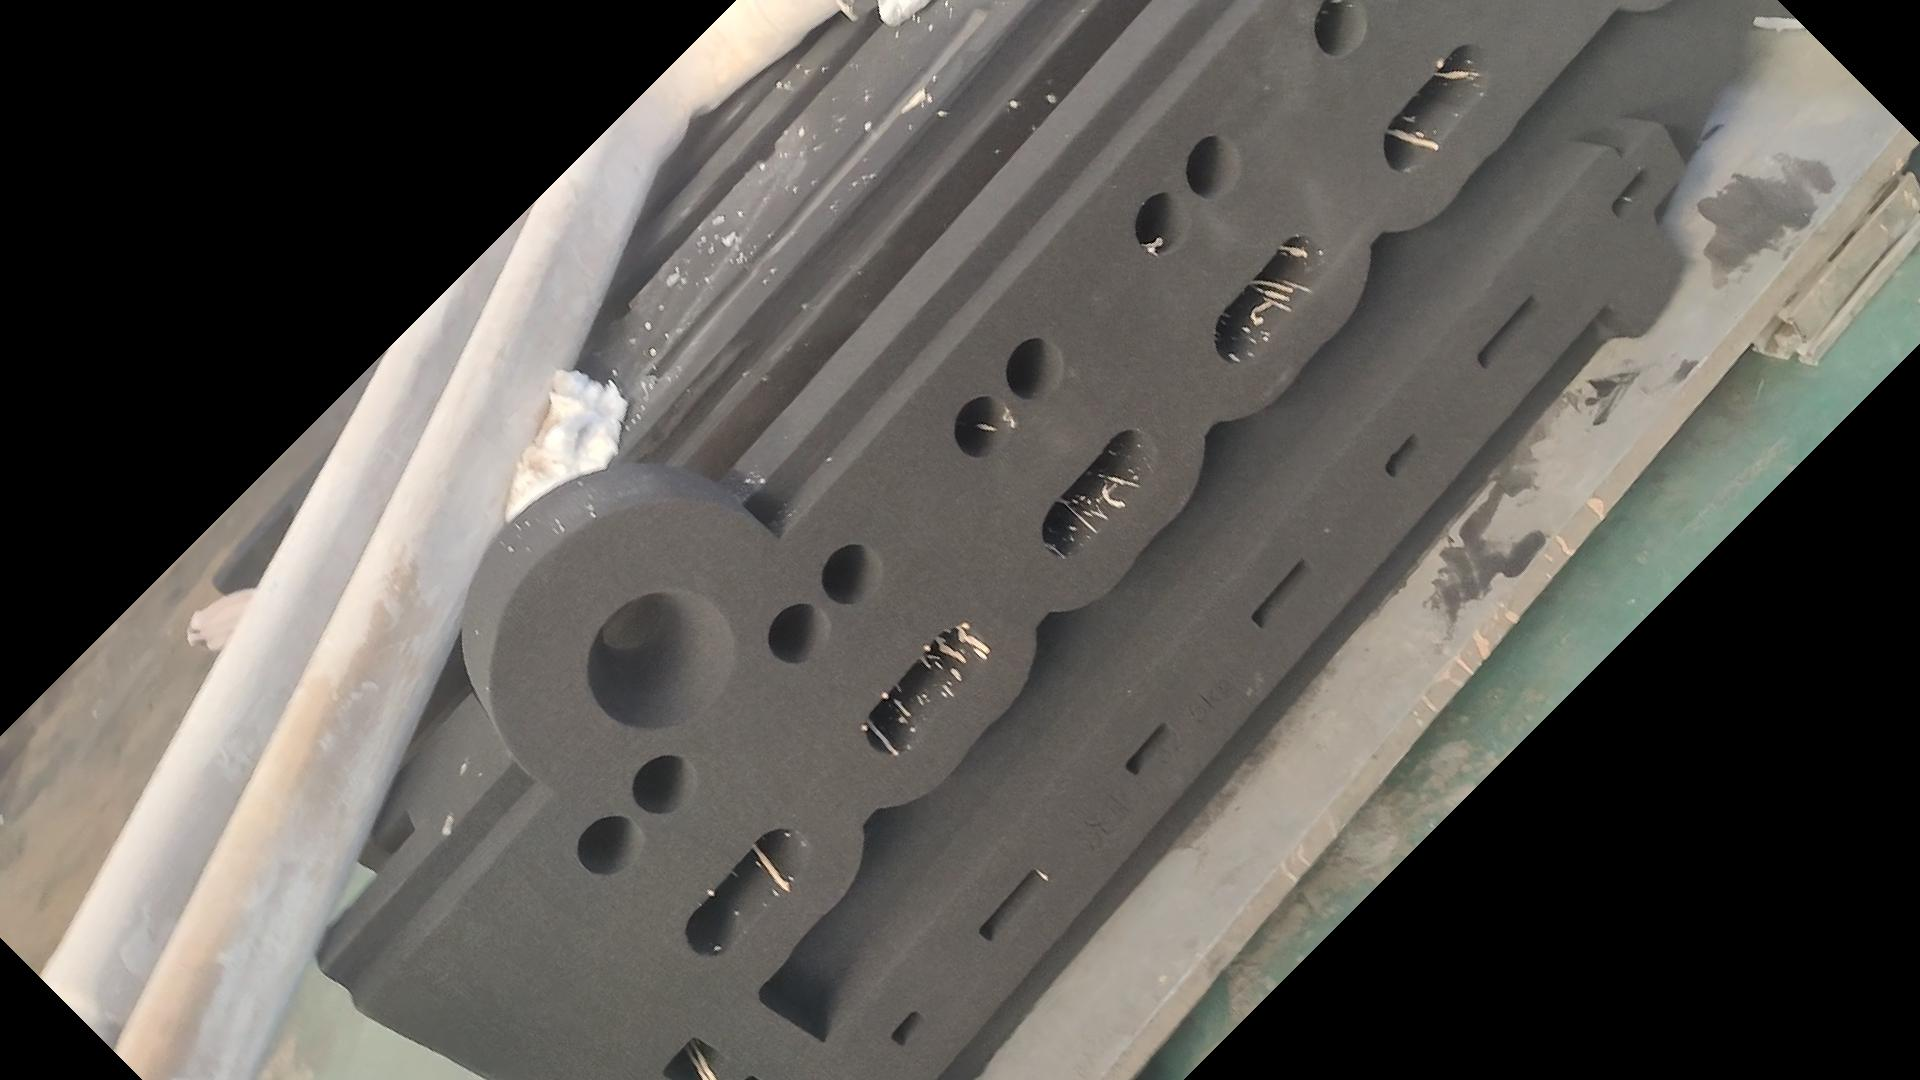pouring hole: (587, 591, 735, 731)
